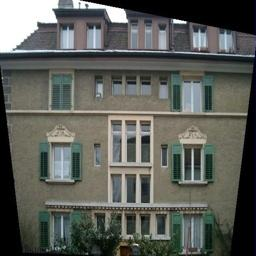building: (5, 9, 250, 246)
